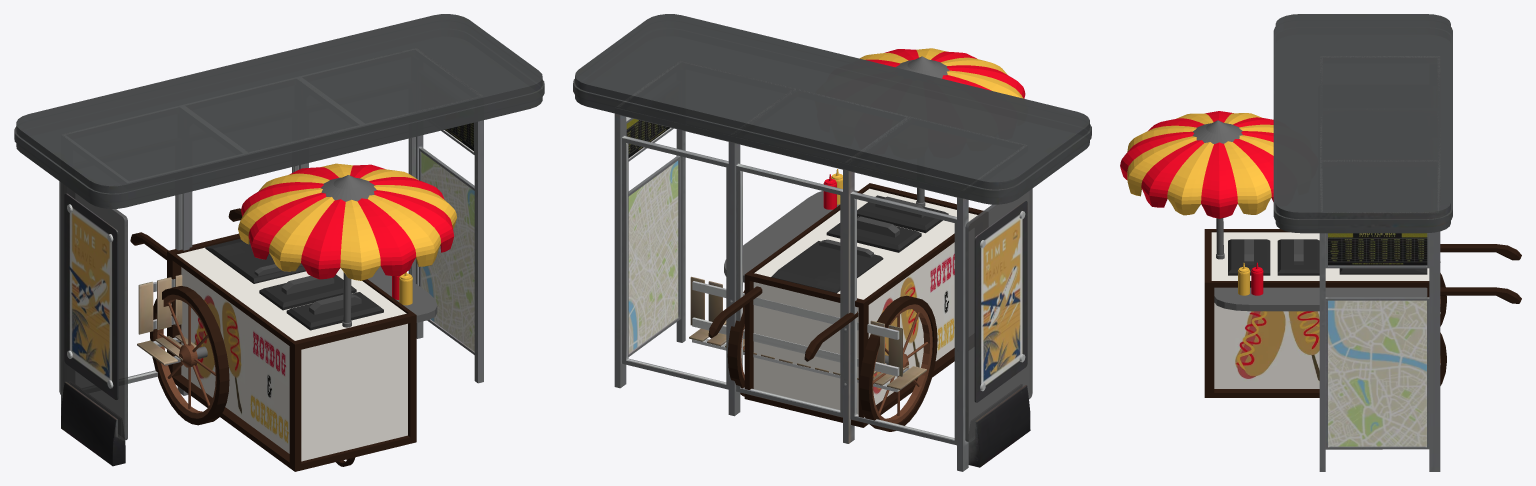
File: v5street.glb
3 views of the same model, side by side, from view 1: azimuth 30°, elevation 25°; view 2: azimuth 150°, elevation 25°; view 3: azimuth 270°, elevation 25° (orthographic). The views are drawn at different scales.
Parts seen in each view (by area): view 1: shelter, hd_cart, hd_umb; view 2: shelter, hd_cart, hd_umb; view 3: shelter, hd_cart, hd_umb, hd_sauce.
Boxes of the visible parts, x1=… form: shelter: x1=14, y1=14, x2=544, y2=466; hd_cart: x1=130, y1=208, x2=437, y2=471; hd_umb: x1=238, y1=163, x2=456, y2=322; shelter: x1=573, y1=14, x2=1091, y2=471; hd_cart: x1=708, y1=183, x2=983, y2=431; hd_umb: x1=824, y1=48, x2=1025, y2=202; shelter: x1=1273, y1=14, x2=1452, y2=471; hd_cart: x1=1204, y1=229, x2=1521, y2=397; hd_umb: x1=1120, y1=111, x2=1273, y2=274; hd_sauce: x1=1238, y1=263, x2=1263, y2=295.
Size of the model in its own units: 3.73 by 2.42 by 3.16.
Materials: 2 (2 with a texture image).
